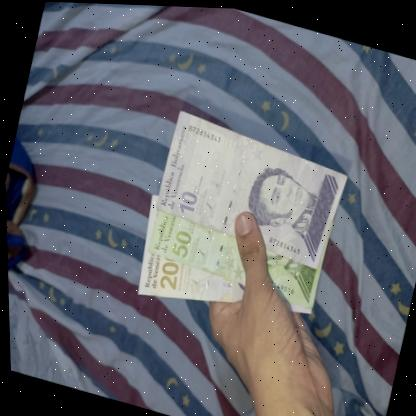fifty-front-vef: (140, 207, 324, 309)
ten-front-vef: (147, 107, 353, 270)
two_hundred-front-vef: (129, 245, 315, 340)
